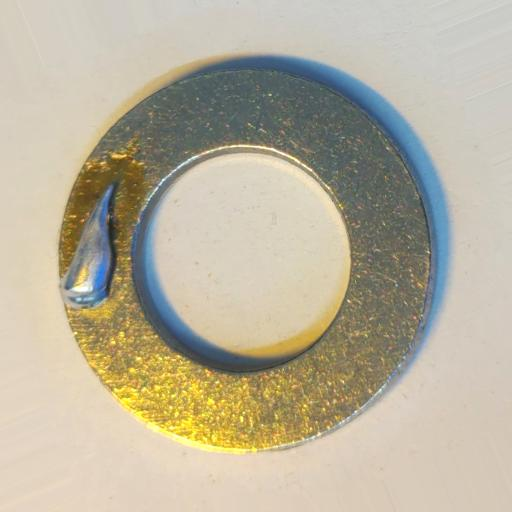excess_material: (59, 178, 119, 310)
